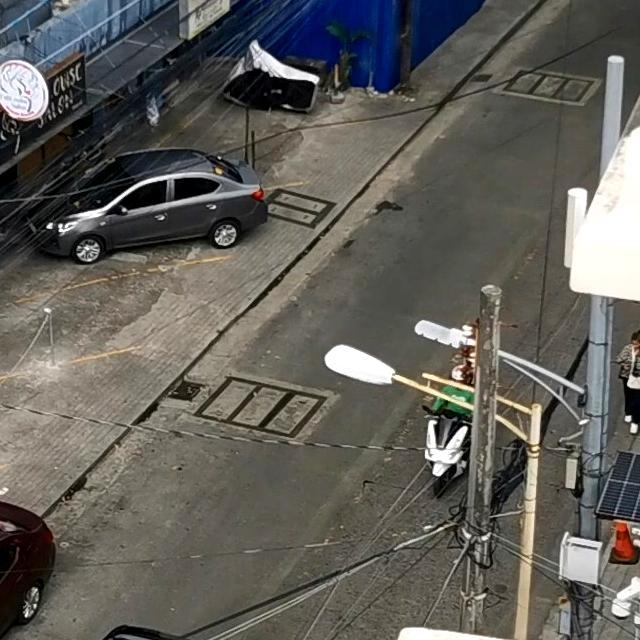Motorcycle: (411, 314, 516, 491)
